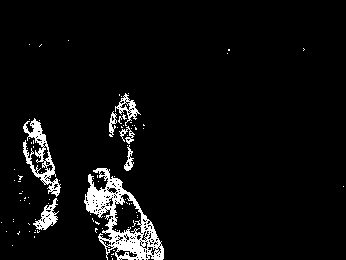person: (85, 168, 162, 260), (23, 118, 62, 227), (110, 93, 139, 171)
